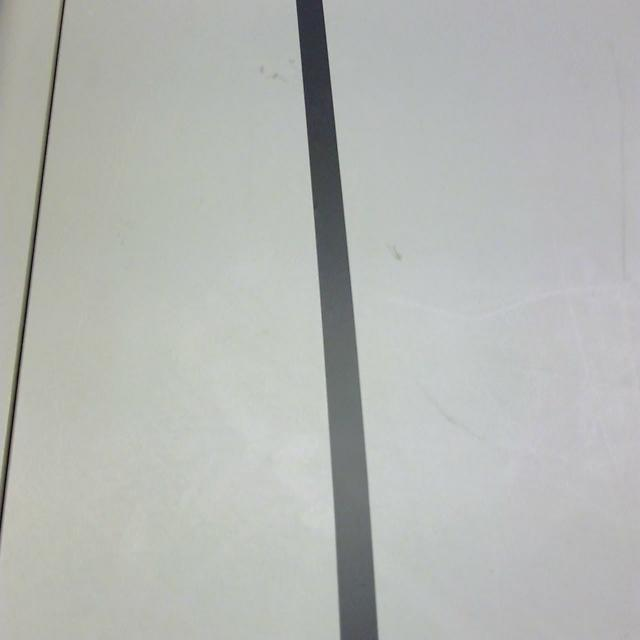tape: (284, 0, 388, 640)
